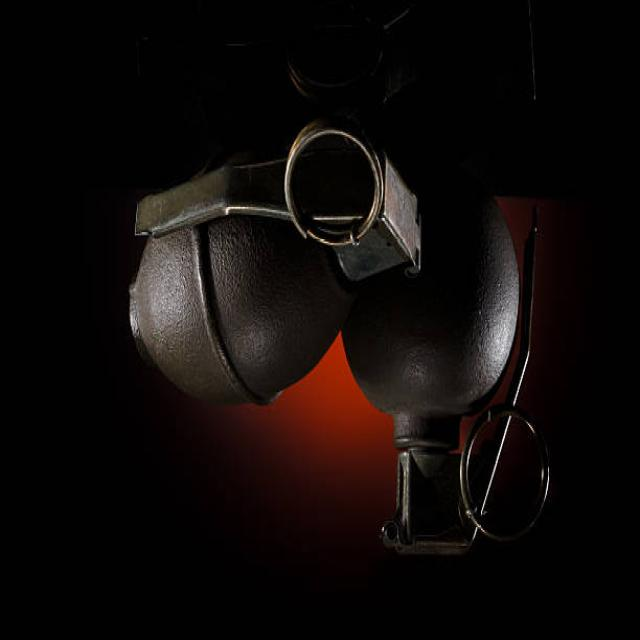grenade: (125, 108, 432, 413), (340, 148, 557, 571)
